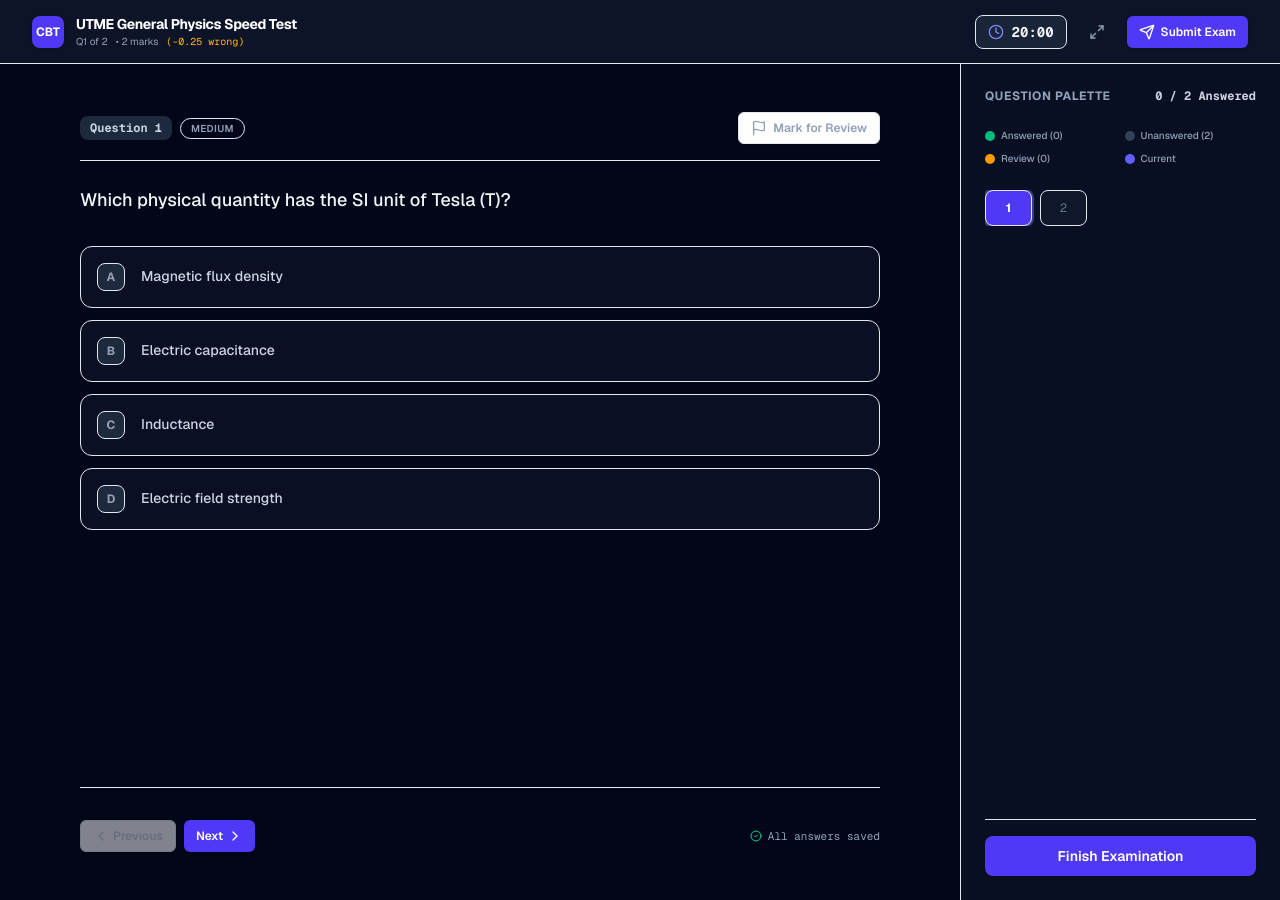
Test: CBT Exam Runner Workstation Component › opens submit confirmation modal and displays answered/unanswered counts
Click the button "Submit Exam" at (1187, 32), box [1127, 16, 1248, 48]
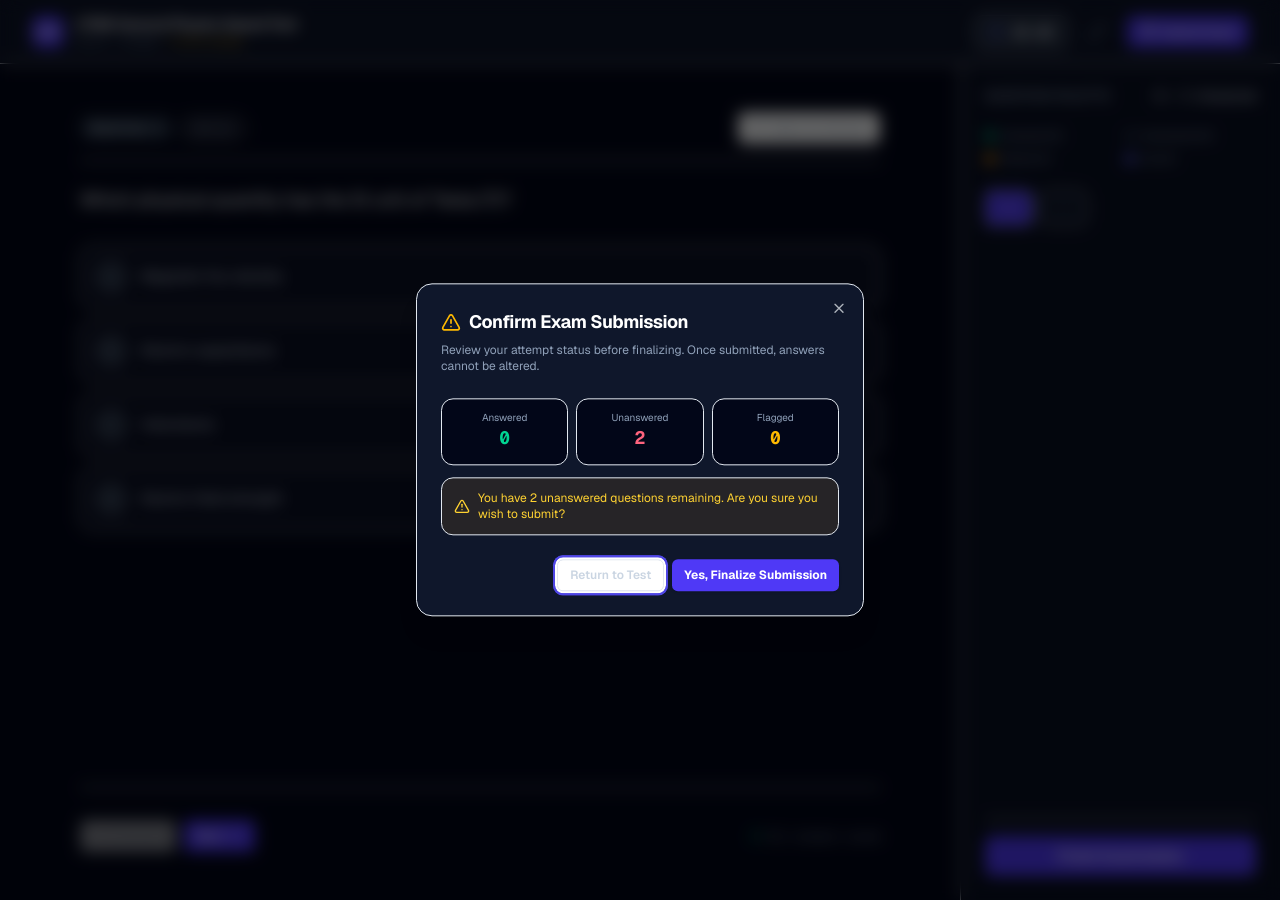
Expected: the heading "Confirm Exam Submission" is shown, [441, 310, 688, 333]
Expected: the text "You have 2 unanswered questions remaining" is shown, [478, 491, 826, 523]
